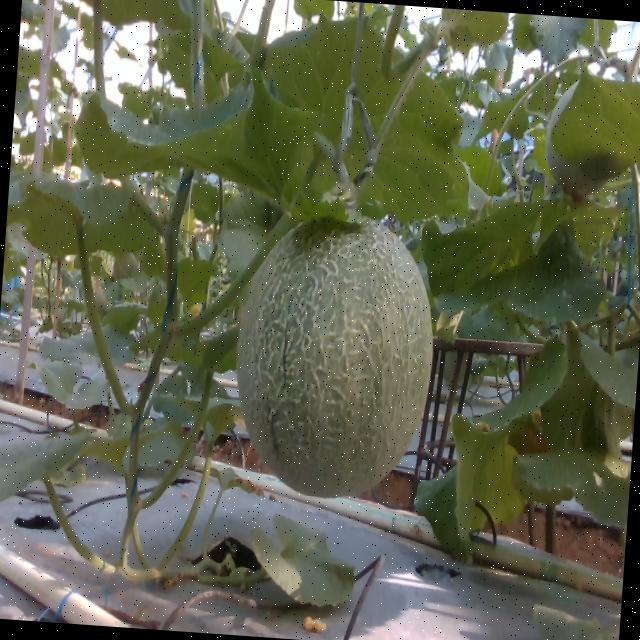melon: (238, 220, 433, 497)
